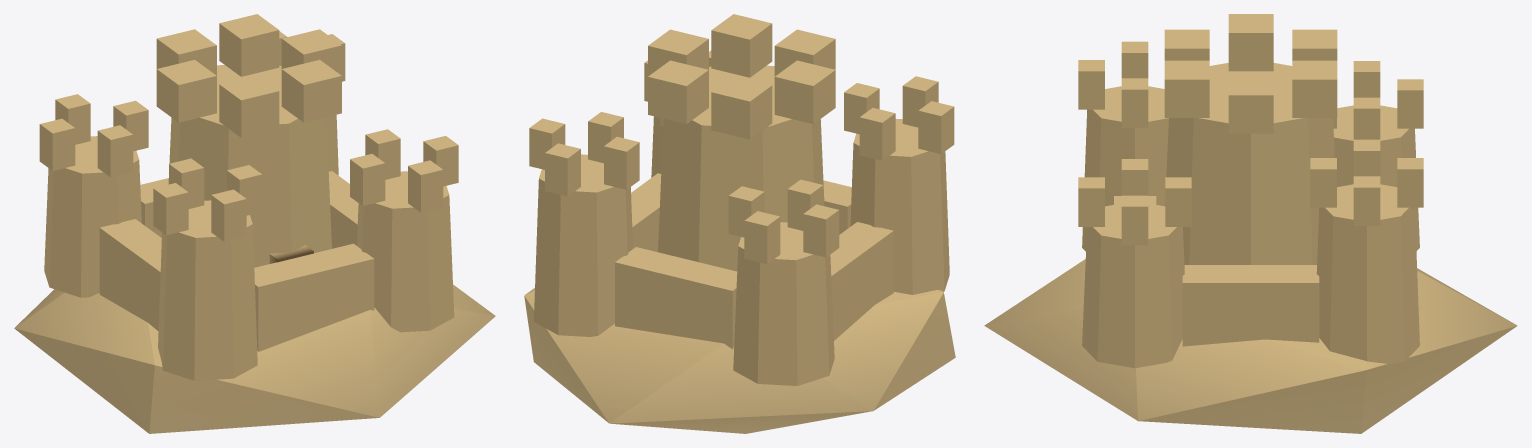
File: sandcastle_0.glb
The picture shows the model from 3 angles, left to right: view 1: azimuth 30°, elevation 25°; view 2: azimuth 150°, elevation 25°; view 3: azimuth 270°, elevation 25°; orthographic projection. The views are drawn at different scales.
Parts seen in each view (by area): view 1: Sandcastle; view 2: Sandcastle; view 3: Sandcastle.
Boxes of the visible parts, x1,y1,x2,y2 form: Sandcastle: [14, 14, 495, 433]; Sandcastle: [524, 14, 955, 433]; Sandcastle: [984, 14, 1517, 433].
Bounding box in the file's own units: 1.67 × 1.35 × 2.02.
